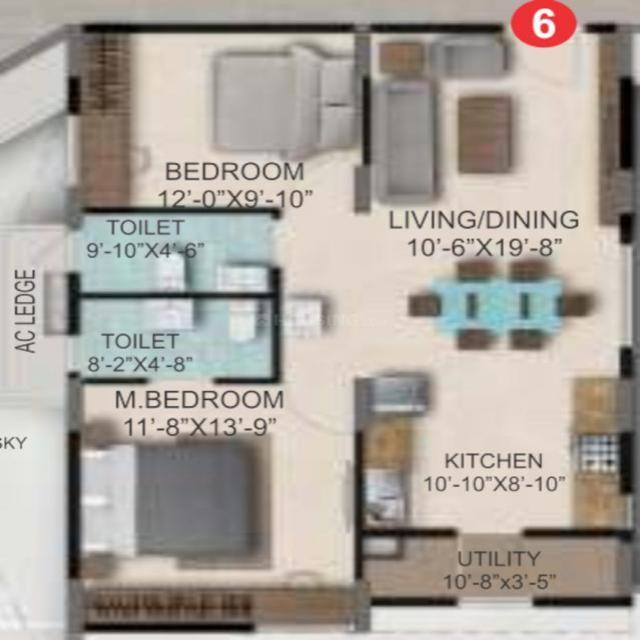Bedroom: (75, 24, 360, 212)
Bedroom with Toilet: (69, 382, 354, 631)
Dining: (401, 249, 598, 361)
Kitchen: (357, 376, 636, 535)
Living: (366, 27, 634, 217)
Toilet: (75, 207, 281, 299), (75, 296, 275, 382)
Utility: (356, 536, 631, 605)
